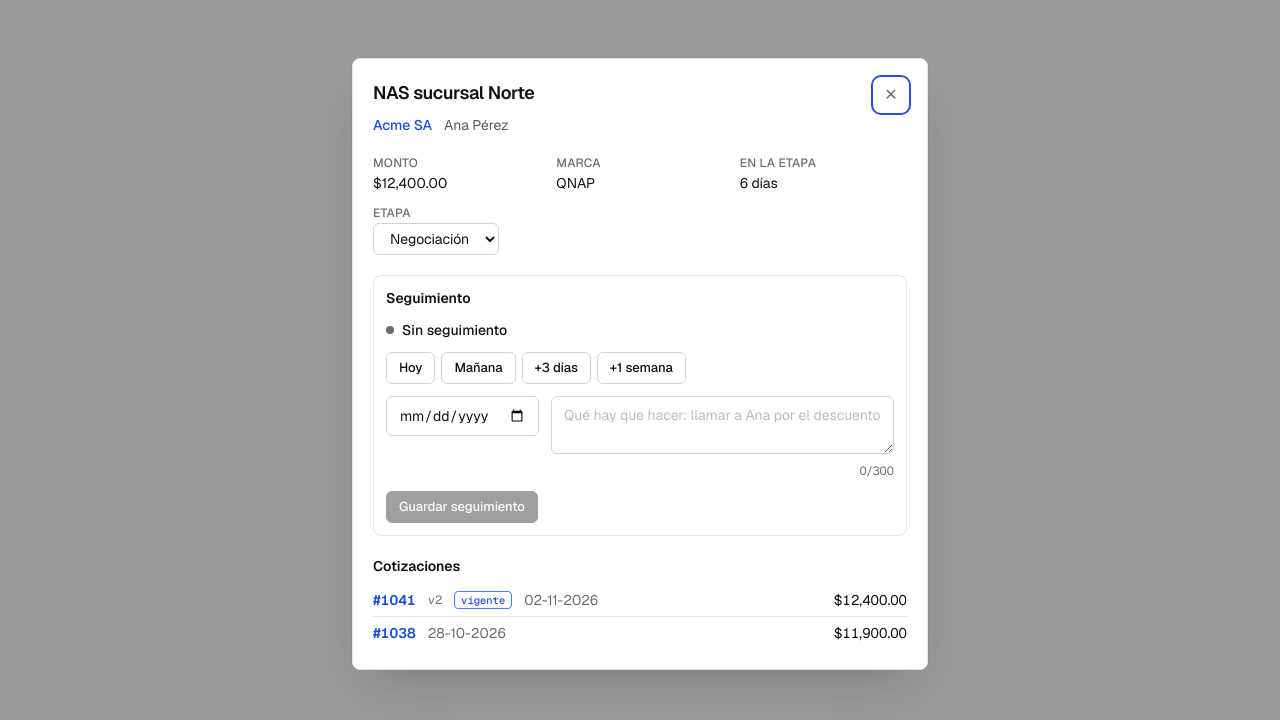
it: OportunidadPanel › seguimiento › el atajo "+1 semana" pone 2026-11-26 en el campo sin guardar
Expected: the dialog "NAS sucursal Norte" is shown, [352,58,928,670]
Expected: the heading "Seguimiento" is shown, [386,289,471,307]
Click the button "+1 semana" at (641, 368), box [597,352,686,384]
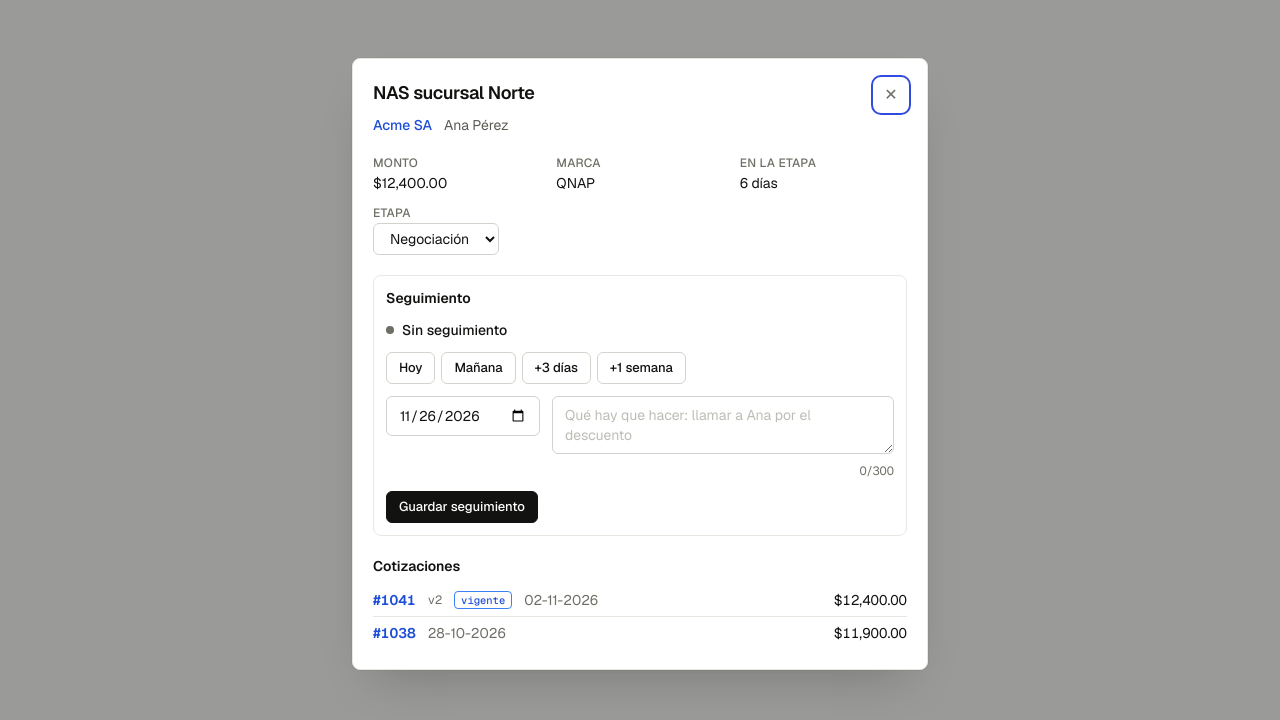
Result: the date field named "Fecha del próximo seguimiento" holds "2026-11-26" at [386,396,540,436]
Result: the button "Guardar seguimiento" is enabled at [386,491,538,523]
